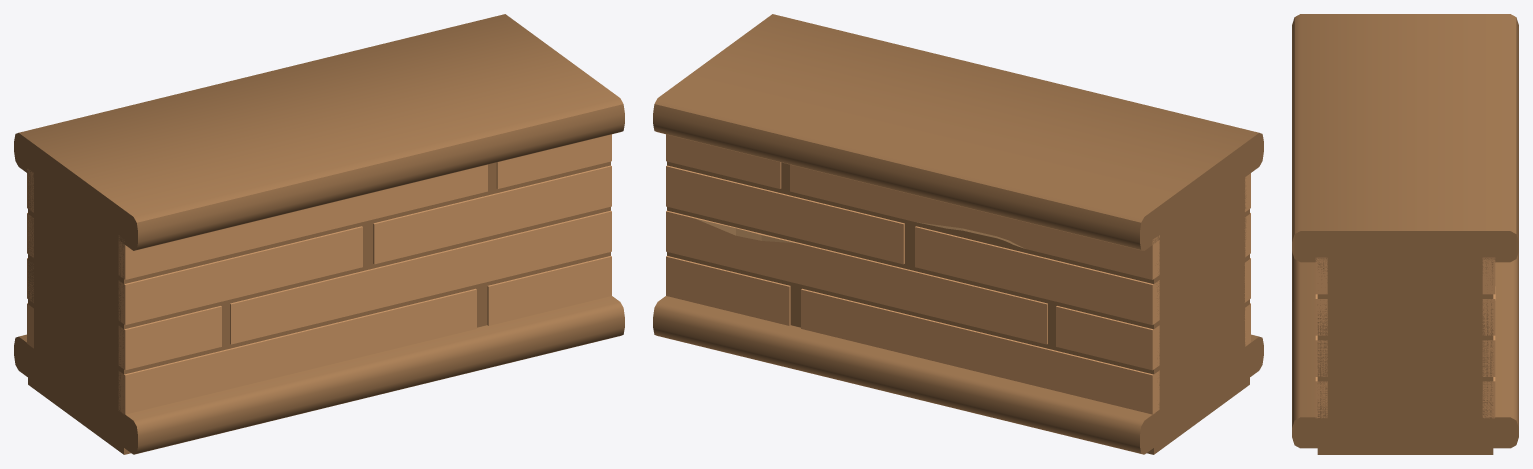
The model's file is counter_straight.glb.
3 views of the same model, side by side, from view 1: azimuth 30°, elevation 25°; view 2: azimuth 150°, elevation 25°; view 3: azimuth 270°, elevation 25° (orthographic). The views are drawn at different scales.
Parts seen in each view (by area): view 1: Environment_Counter_Straight; view 2: Environment_Counter_Straight; view 3: Environment_Counter_Straight.
Boxes of the visible parts, bbox=[...] form: Environment_Counter_Straight: bbox=[14, 14, 624, 454]; Environment_Counter_Straight: bbox=[653, 14, 1263, 454]; Environment_Counter_Straight: bbox=[1292, 14, 1518, 454].
Size of the model in its own units: 4 by 1.92 by 1.77.
Materials: 1 (1 with a texture image).
